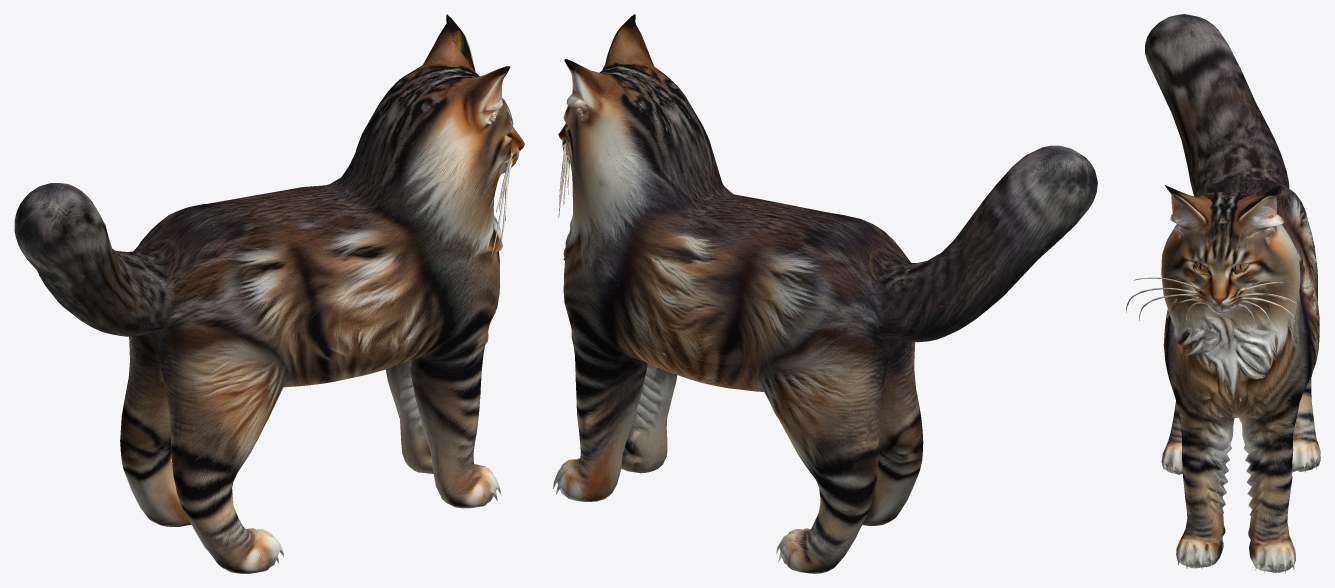
File: MRSNORRCAT.glb
3 renders of one model, left to right at view 1: azimuth 30°, elevation 25°; view 2: azimuth 150°, elevation 25°; view 3: azimuth 270°, elevation 25°, orthographic. The views are drawn at different scales.
Parts seen in each view (by area): view 1: fit; view 2: fit; view 3: fit.
Part boxes in pixels (x1=…): fit: x1=14, y1=14, x2=524, y2=573; fit: x1=553, y1=14, x2=1097, y2=573; fit: x1=1126, y1=14, x2=1320, y2=572.
Bounding box in the file's own units: 1.23 × 1 × 0.453.
1 material, 1 textured.
